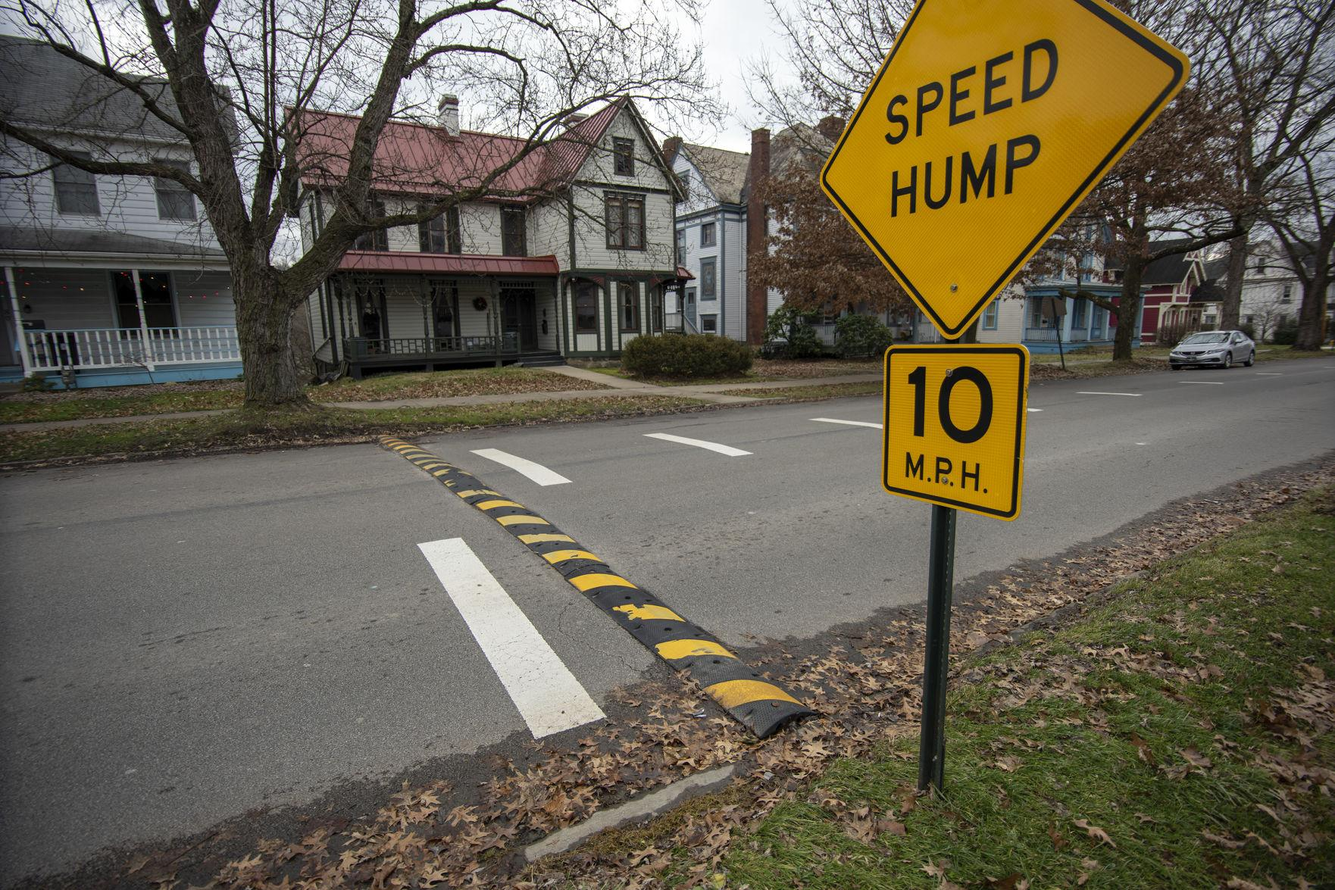Pothole: (356, 418, 835, 761)
